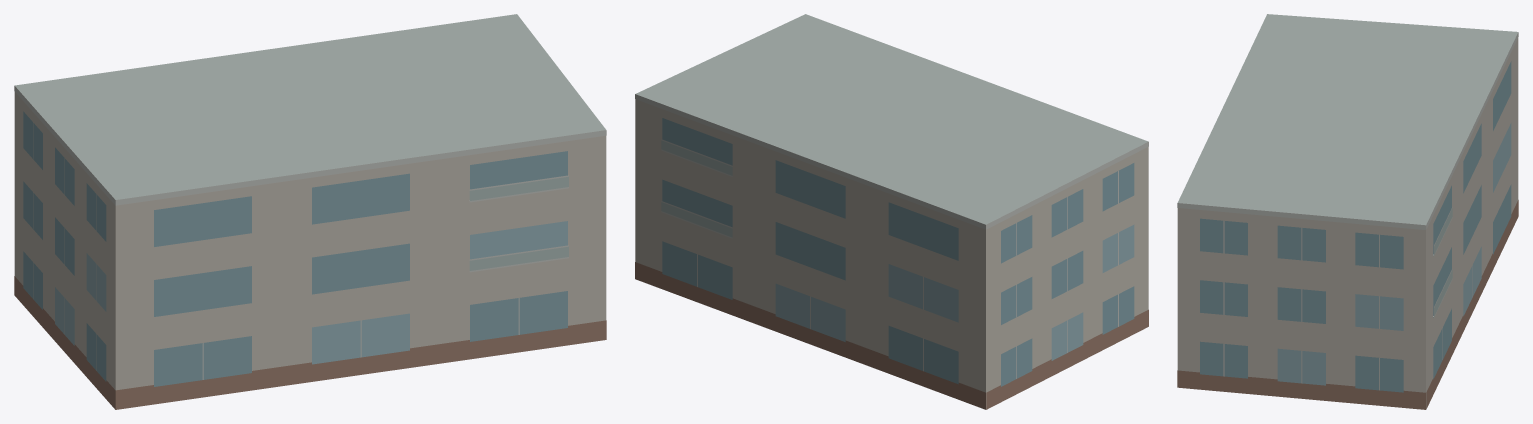
Rendered from survey-upis-32979253.glb.
The picture shows the model from 3 angles, left to right: view 1: azimuth 30°, elevation 25°; view 2: azimuth 150°, elevation 25°; view 3: azimuth 270°, elevation 25°; orthographic projection. The views are drawn at different scales.
Visible parts, largest first — view 1: survey-upis-32979253.tmp; view 2: survey-upis-32979253.tmp; view 3: survey-upis-32979253.tmp.
Part boxes in pixels (x1,y1,x2,y2): survey-upis-32979253.tmp: (14,14,606,409); survey-upis-32979253.tmp: (635,14,1148,409); survey-upis-32979253.tmp: (1177,14,1518,409).
Bounding box in the file's own units: 22.46 × 9.15 × 15.32.
